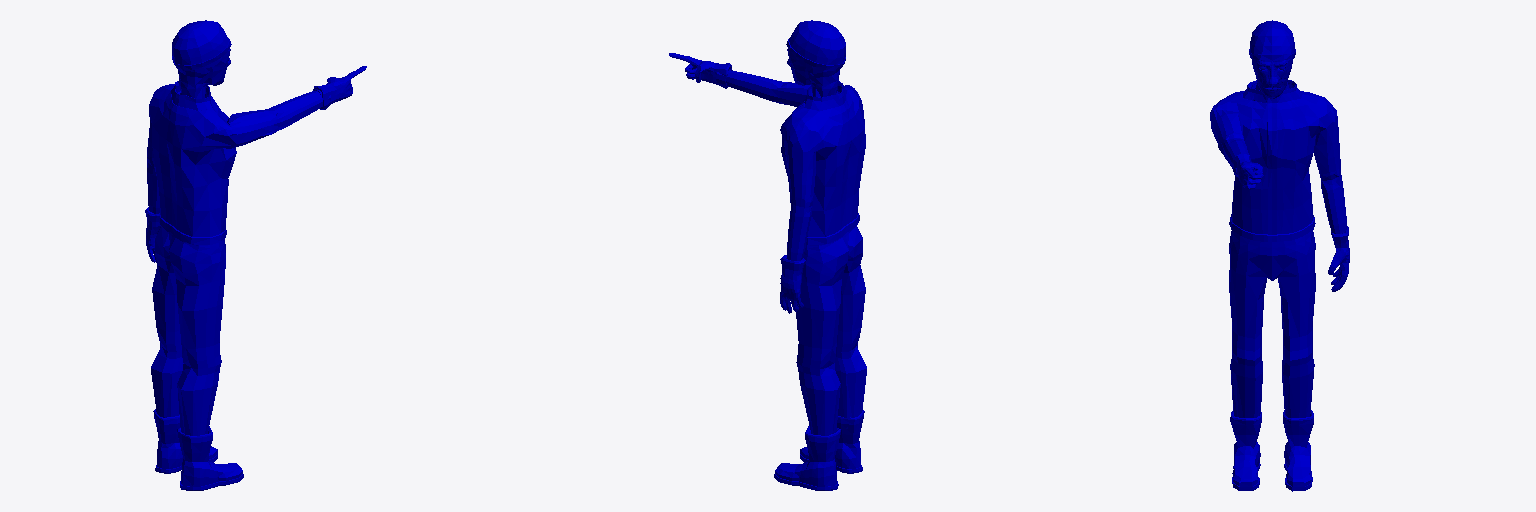
The robot description file, URDF, robot "quadrotor":
<?xml version="1.0" ?>
<robot name="quadrotor" xmlns:xacro="http://ros.org/wiki/xacro">
  <!-- Included URDF Files -->
  <!-- Main quadrotor link -->
  <!-- Instantiate quadrotor_base_macro once (has no parameters atm) -->
<material name="Blue">
    <color rgba="0.0 0.0 0.8 1.0"/>
  </material>
  <link name="base_HUMAN">
    <inertial>
      <mass value="1.477"/>
      <origin xyz="0 0 0"/>
      <inertia ixx="0.01152" ixy="0.0" ixz="0.0" iyy="0.01152" iyz="0.0" izz="0.0218"/>
    </inertial>
    <visual>
      <origin rpy="0 0 0" xyz="0 0 0"/>
      <geometry>
        <mesh filename="package://agent_mission/models/operator_point.dae"/>
      </geometry>
      <material name="Blue"/>
    </visual>
    <collision>
      <origin rpy="0 0 0" xyz="0 0 0"/>
      <geometry>
	<mesh filename="package://agent_mission/models/operator_point.dae"/>
      </geometry>
      <material name="Blue"/>
    </collision>
  </link>
</robot>

--- Render facts (derived) ---
3 views of the same robot in one strip: view 1: azimuth 30°, elevation 25°; view 2: azimuth 150°, elevation 25°; view 3: azimuth 270°, elevation 25° (orthographic).
Robot: quadrotor — 1 links, 0 joints (none); root link base_HUMAN; default pose: all joints at 0.
Links seen in each view (by area): view 1: base_HUMAN; view 2: base_HUMAN; view 3: base_HUMAN.
Link boxes in pixels (<box>): base_HUMAN: <box>145,20,366,490</box>; base_HUMAN: <box>669,20,866,490</box>; base_HUMAN: <box>1210,20,1349,491</box>.
Size in the robot's own frame: 0.7793 by 0.4895 by 1.74 metres.
1 mesh visuals loaded from 1 distinct referenced files (1 Collada DAE).
